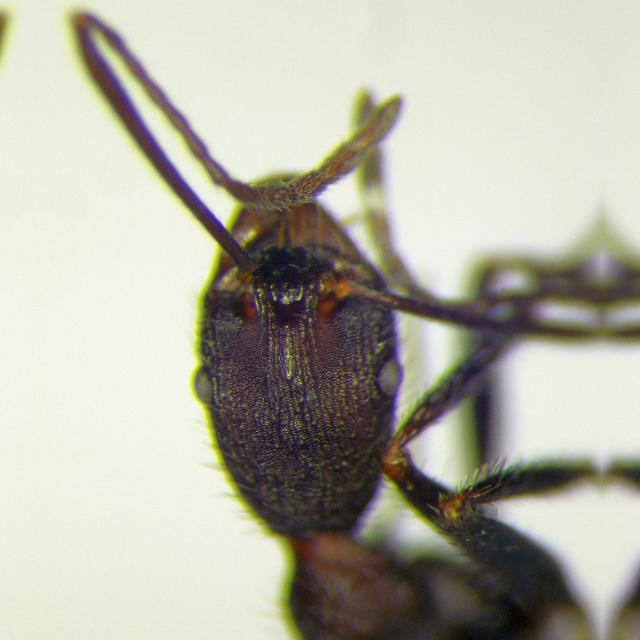Apheanogaster: (128, 52, 596, 640)
